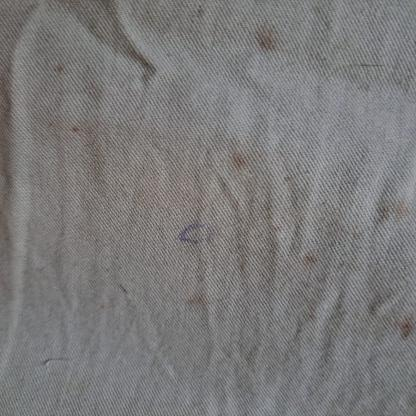spot: (374, 195, 416, 224), (346, 71, 413, 86), (245, 27, 283, 51), (176, 224, 218, 244), (393, 312, 416, 340), (228, 151, 253, 166), (301, 253, 323, 269), (116, 281, 134, 298), (51, 59, 71, 74), (185, 295, 211, 306), (354, 62, 392, 69), (278, 175, 298, 183), (70, 126, 86, 135)
